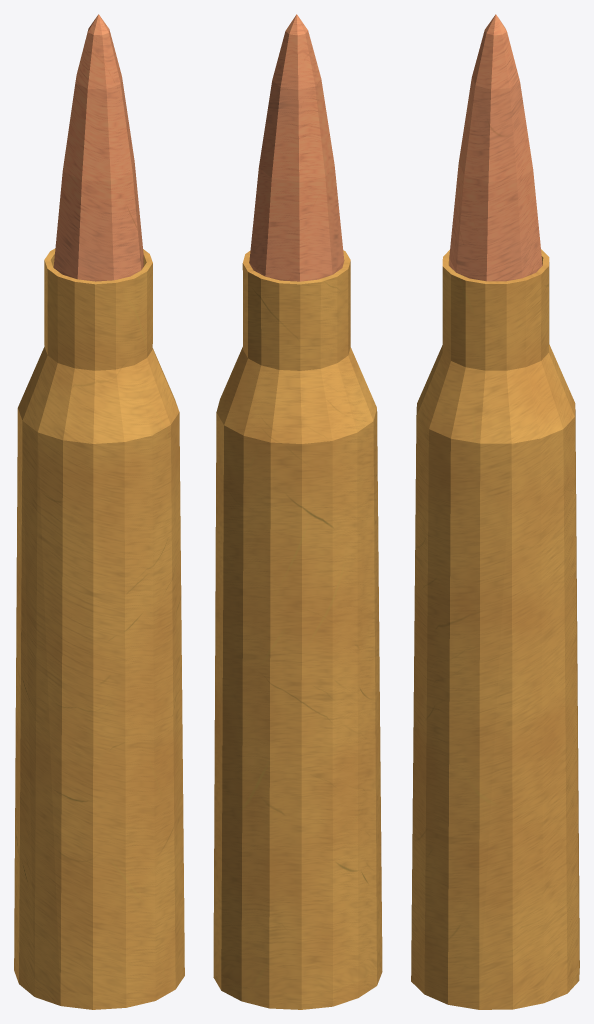
File: bullet.obj
3 views of the same model, side by side, from view 1: azimuth 30°, elevation 25°; view 2: azimuth 150°, elevation 25°; view 3: azimuth 270°, elevation 25° (orthographic).
Visible parts, largest first — view 1: Bullet_low; view 2: Bullet_low; view 3: Bullet_low.
Boxes of the visible parts, x1,y1,x2,y2 form: Bullet_low: (14, 14, 184, 1009); Bullet_low: (213, 14, 382, 1009); Bullet_low: (411, 14, 579, 1009).
Size of the model in its own units: 0.0148 by 0.0935 by 0.0149.
1 material, 1 textured.
